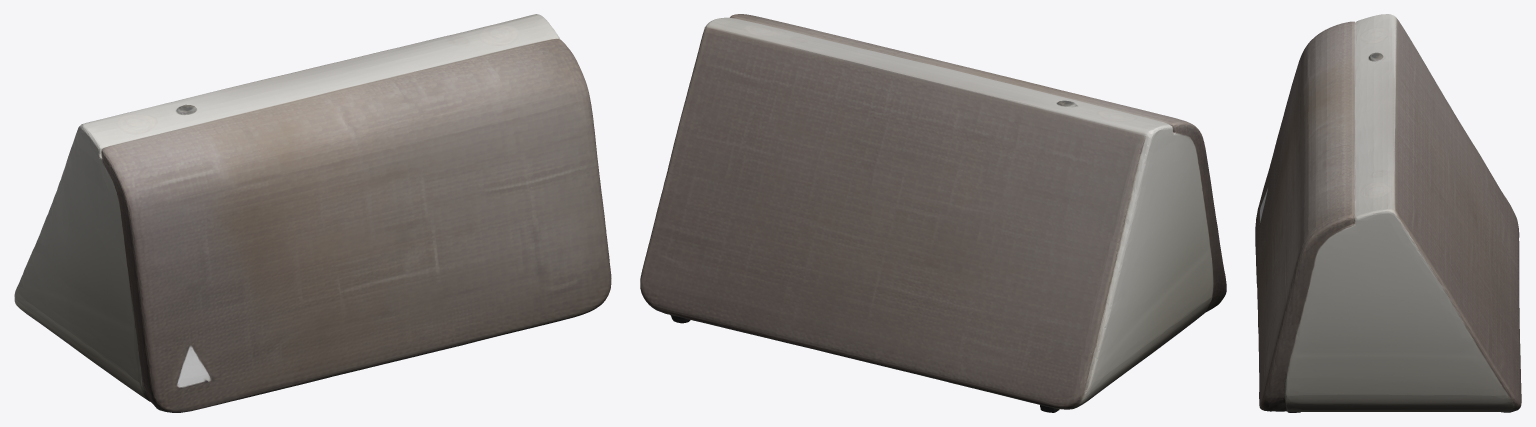
Rendered from kevin-hero-3d.glb.
3 views of the same model, side by side, from view 1: azimuth 30°, elevation 25°; view 2: azimuth 150°, elevation 25°; view 3: azimuth 270°, elevation 25° (orthographic). The views are drawn at different scales.
Visible parts, largest first — view 1: world; view 2: world; view 3: world.
Boxes of the visible parts, bbox=[...] form: world: bbox=[14, 14, 611, 412]; world: bbox=[640, 14, 1226, 412]; world: bbox=[1255, 14, 1521, 412].
Bounding box in the file's own units: 0.9989 × 0.5159 × 0.5682.
1 material, 1 textured.
